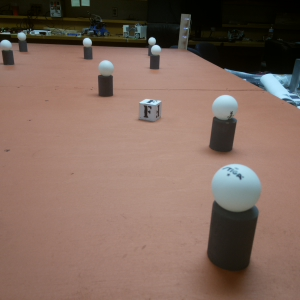blockF: (138, 96, 162, 123)
corner: (177, 11, 191, 51)
obstacle: (208, 154, 260, 275), (210, 91, 236, 154), (96, 60, 114, 96), (1, 40, 15, 64), (150, 45, 161, 72), (82, 37, 93, 60), (18, 32, 27, 52), (147, 36, 156, 54)
